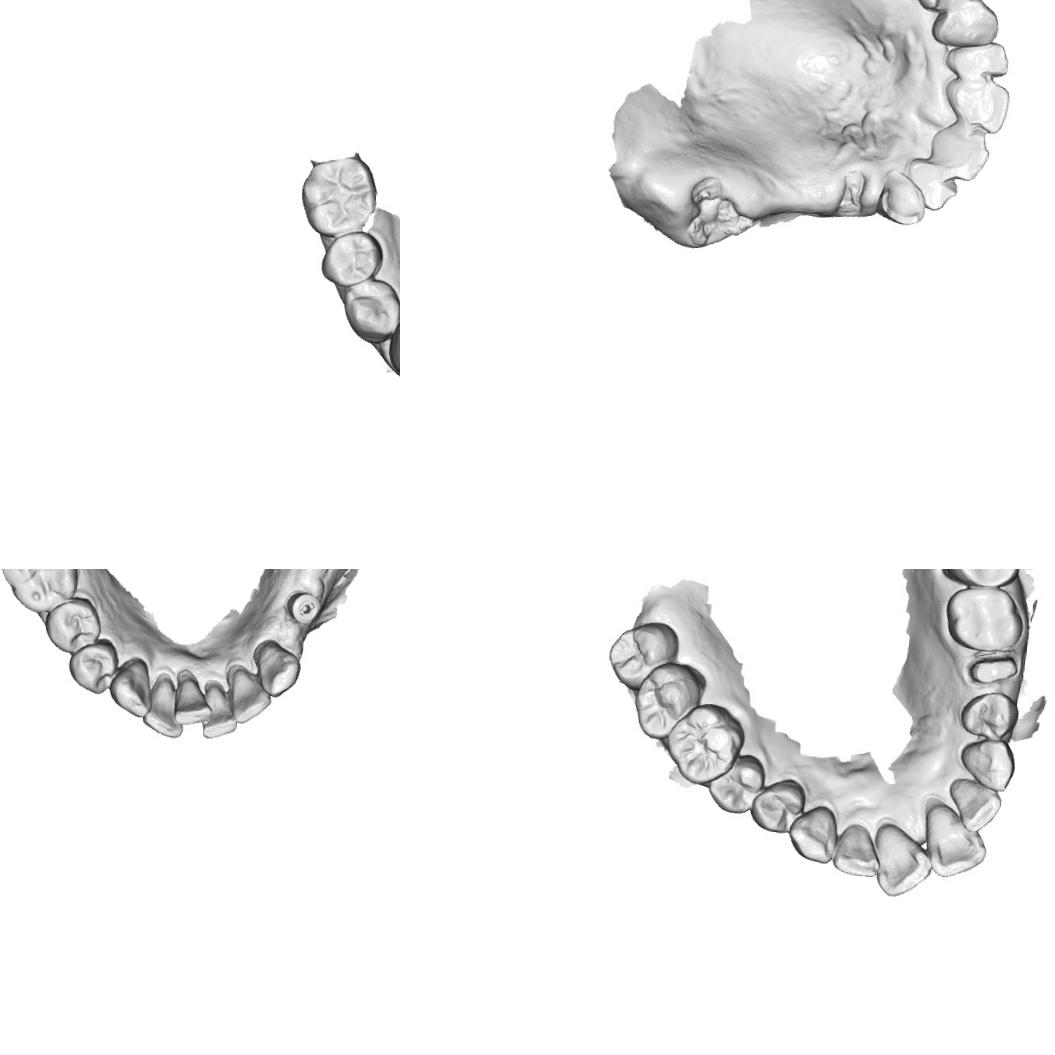canine: (248, 634, 304, 700), (929, 0, 1001, 50), (955, 736, 1018, 793), (874, 166, 928, 230), (784, 802, 838, 866), (104, 654, 156, 720), (383, 314, 400, 380)
crown: (966, 651, 1021, 687)
implant_minus: (282, 588, 322, 628)
incisor: (919, 800, 991, 882), (868, 820, 936, 900), (940, 74, 1012, 136), (925, 120, 992, 184), (945, 774, 1004, 836), (139, 668, 188, 738), (902, 155, 961, 213), (222, 662, 275, 726), (940, 36, 1012, 82), (830, 821, 883, 880), (170, 666, 216, 728), (198, 677, 241, 740)
molar: (660, 697, 747, 788), (298, 153, 378, 238), (630, 658, 704, 743), (941, 582, 1026, 654), (604, 616, 682, 693), (0, 569, 82, 618), (937, 569, 1022, 590)
premolar: (318, 226, 384, 290), (706, 750, 769, 817), (340, 275, 400, 344), (41, 593, 103, 657), (747, 774, 808, 836), (956, 688, 1022, 742), (64, 634, 120, 696), (911, 0, 976, 16)
